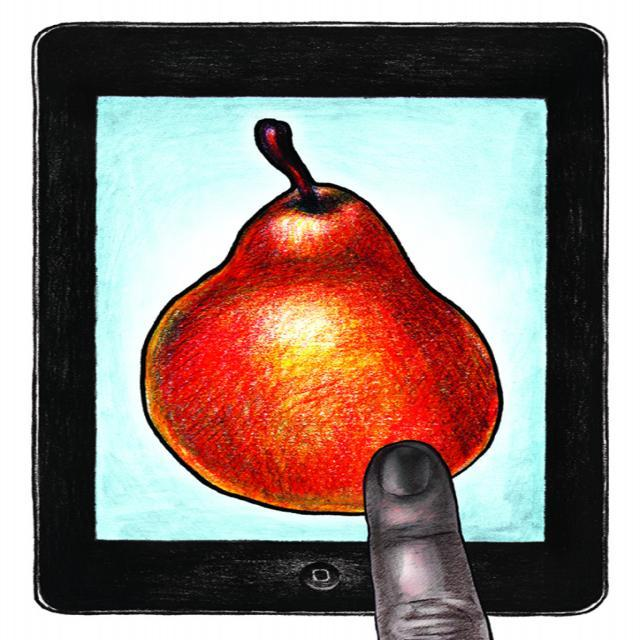Pear: (140, 177, 507, 516)
